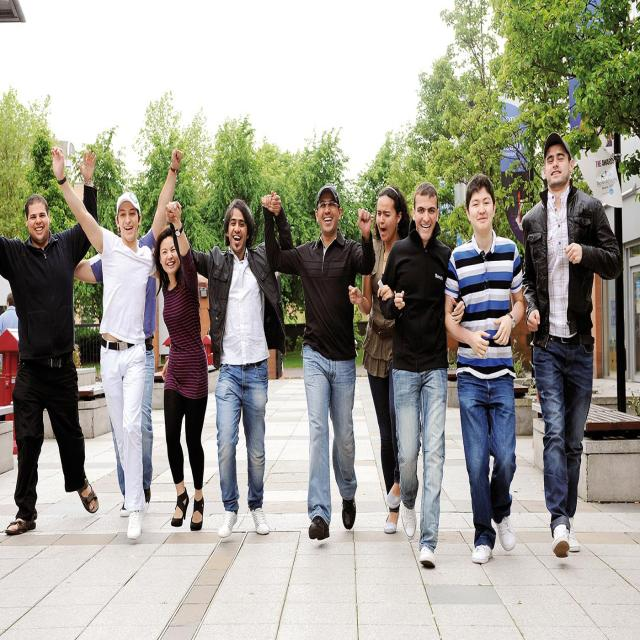body: (49, 144, 175, 541), (164, 190, 295, 540), (521, 130, 625, 559), (48, 146, 160, 522), (261, 182, 376, 541), (0, 147, 100, 537), (376, 182, 466, 570), (440, 171, 526, 564), (347, 184, 412, 535), (148, 199, 210, 534)
